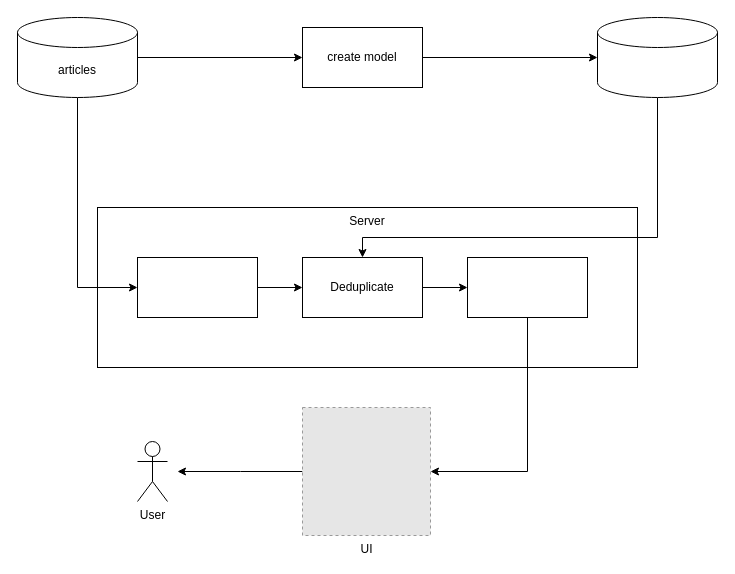
This 735x574 diagram has some shape labels left out. Grey dashed boxes stand in for pictures. Here are the shapes that lost their labels. From the top down, the centre of each, then its label:
point 657,57: model (vectorized lemmatized articles)
point 197,287: Pick recent articles
point 527,287: Send response
